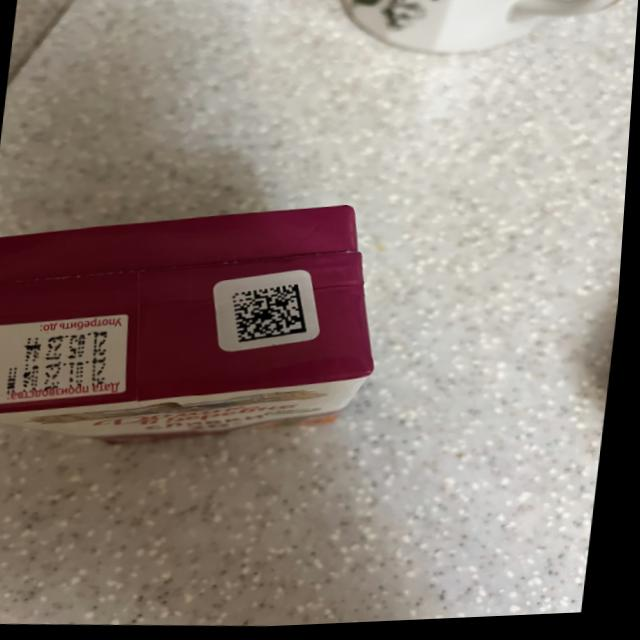datamatrix: (231, 284, 317, 350)
